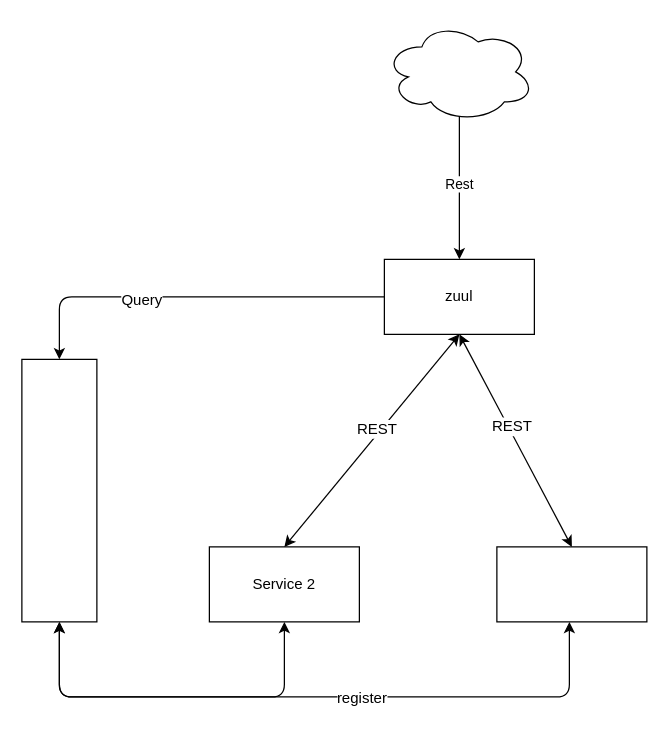
Image size: 669x730. Some labels were removed from this diagram. The shapes that lost their labels are listed below. From the top down, each one's box as (x1, y1, x2, y2) in pixels, then its label:
(21, 358, 97, 622): eureka service registry
(496, 546, 647, 622): Service 1
